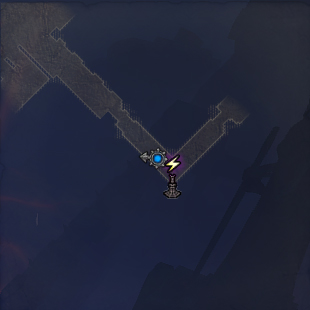ConduitPylon: (161, 154, 184, 199)
